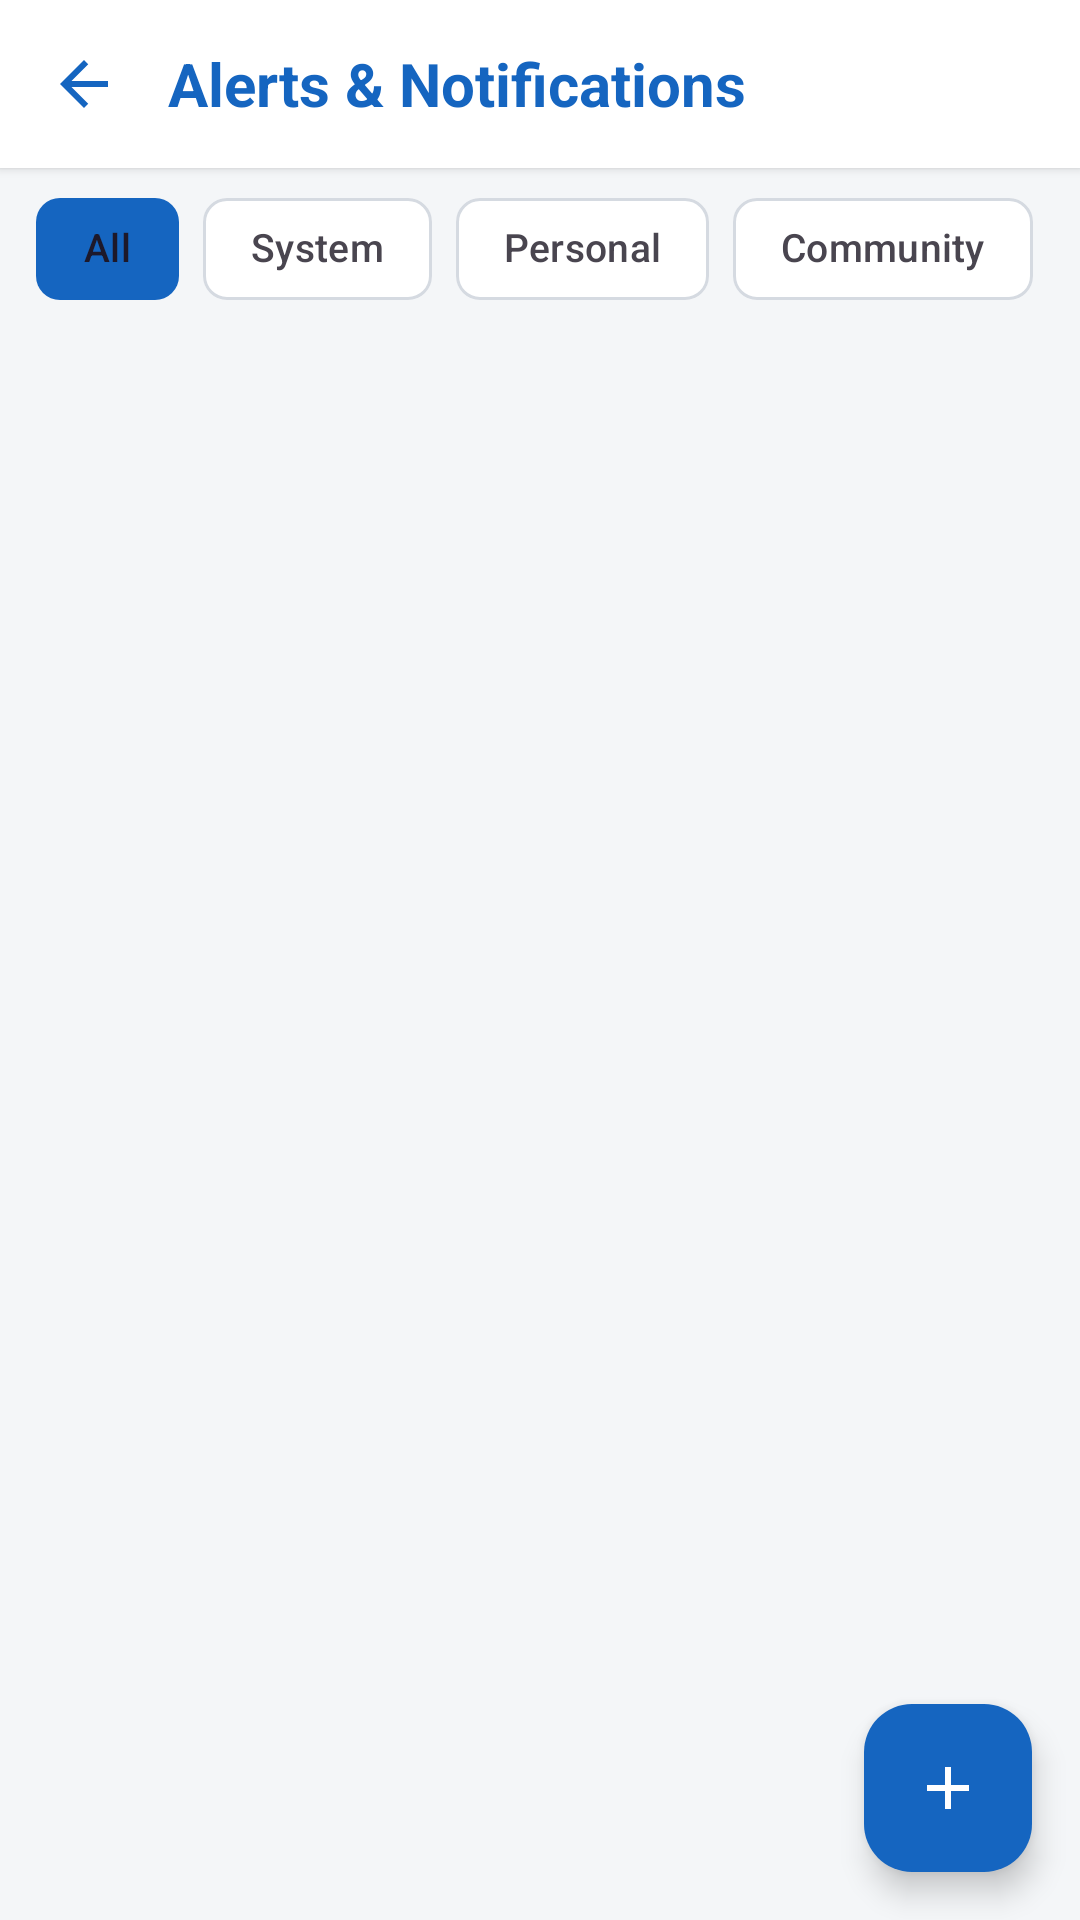

Icons on this 1080 x 1920 Android screen, each with the point to tap as point (x, y):
Add: point (948, 1788)
Back: point (84, 84)
